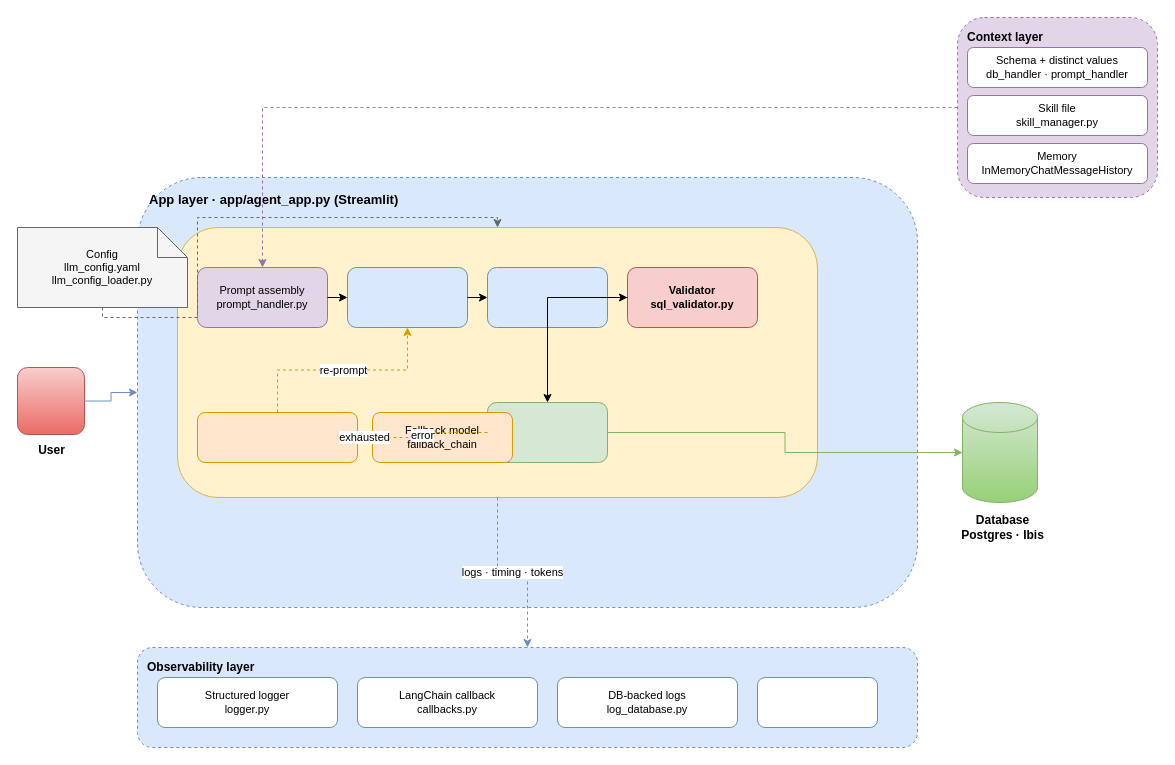
The diagram is 1175 pixels wide and 765 high, and some of its shapes have lost their labels. The box of each missing label's shape, as (x1, y1, x2, y2) in pixels:
Agent core · SqlAgent.py: (176, 226, 818, 498)
API handler ChatOpenAI: (346, 266, 468, 328)
DB handler db_handler.py: (486, 402, 608, 462)
Debug retry loop debug_prompt_template: (196, 412, 358, 462)
Offline eval testing/: (756, 676, 878, 728)
Parse parse_query.py: (486, 266, 608, 328)
